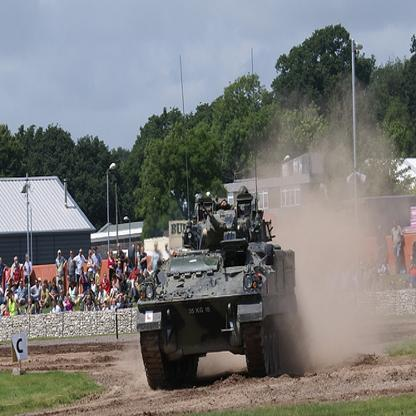Tank: (139, 189, 309, 392)
